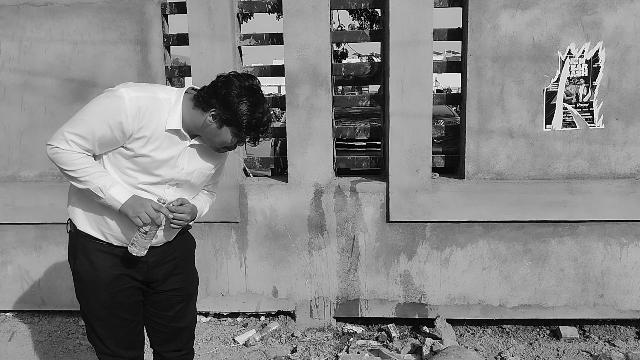spit: (189, 70, 344, 335)
